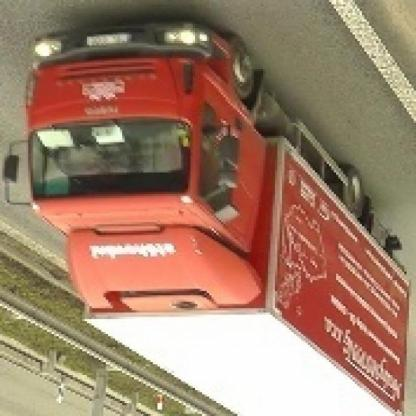truck: (1, 25, 414, 416)
